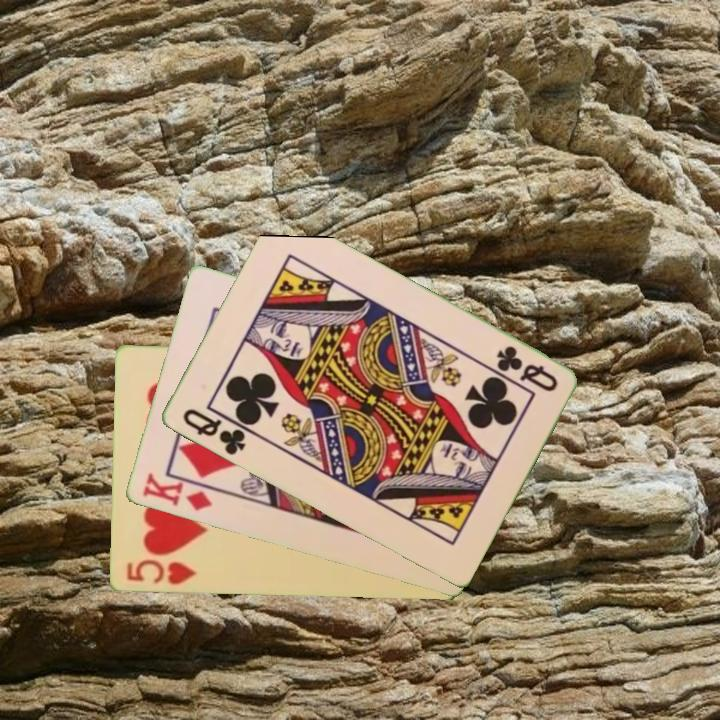5h: (123, 556, 199, 588)
Kd: (138, 470, 222, 514)
Qc: (178, 405, 249, 459), (492, 342, 560, 395)
